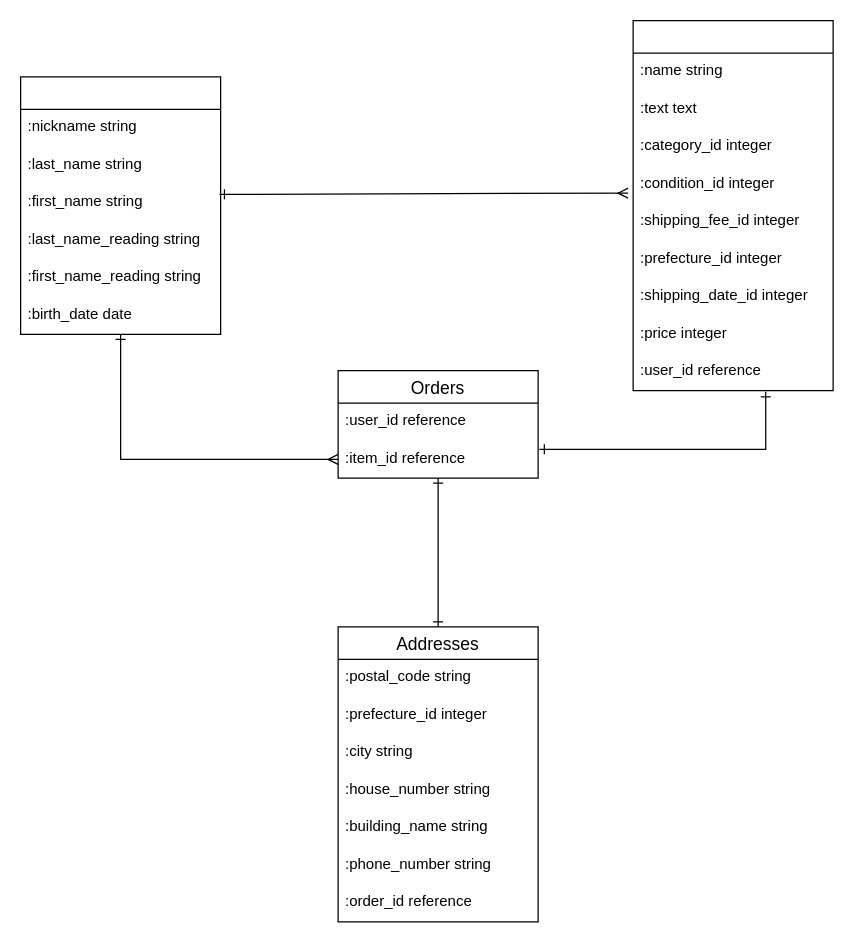
The diagram is 854 pixels wide and 943 high, and some of its shapes have lost their labels. The shapes that lost their labels are listed below. From the top down, each one's box as (x1, y1, x2, y2) in pixels, then its label:
(19, 76, 221, 334): Users
(632, 19, 833, 391): Items
